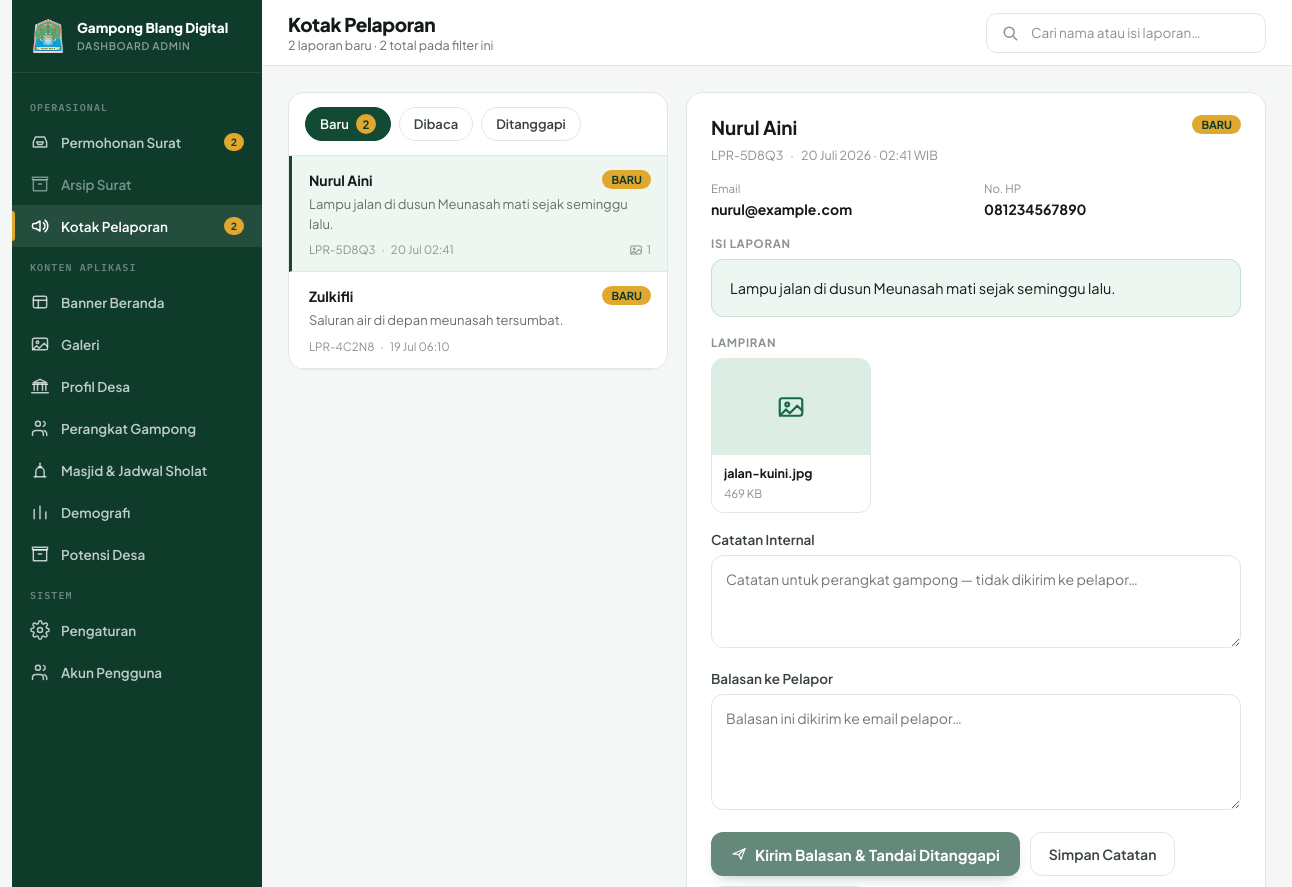
Test: feedback inbox › labels the action as a follow-up once a report is already answered
Click the tab "Dibaca". click: (436, 124)
box: left=399, top=107, right=473, bottom=141
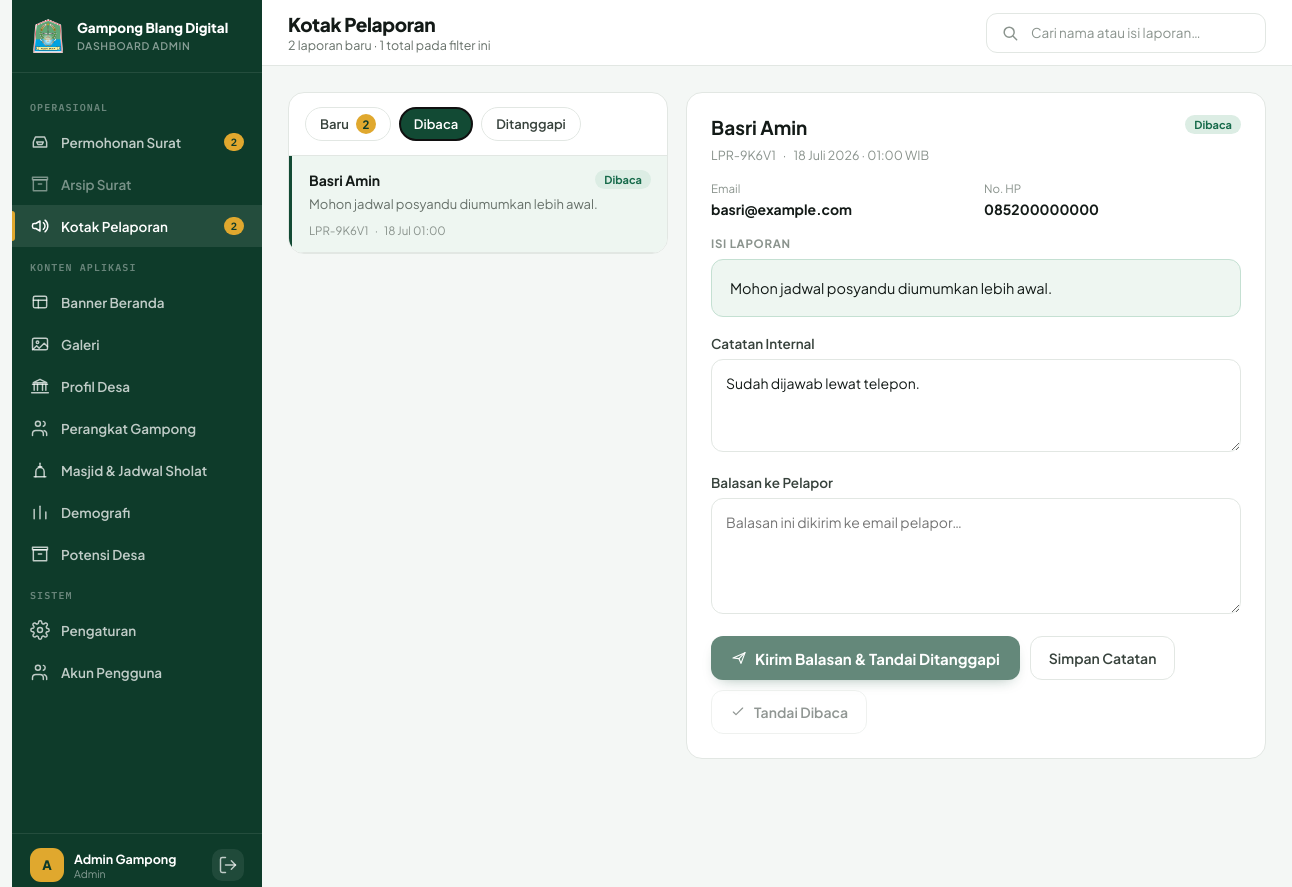
Click the button with aria-label "buka laporan dari basri amin". click: (478, 204)
box: left=289, top=156, right=667, bottom=252
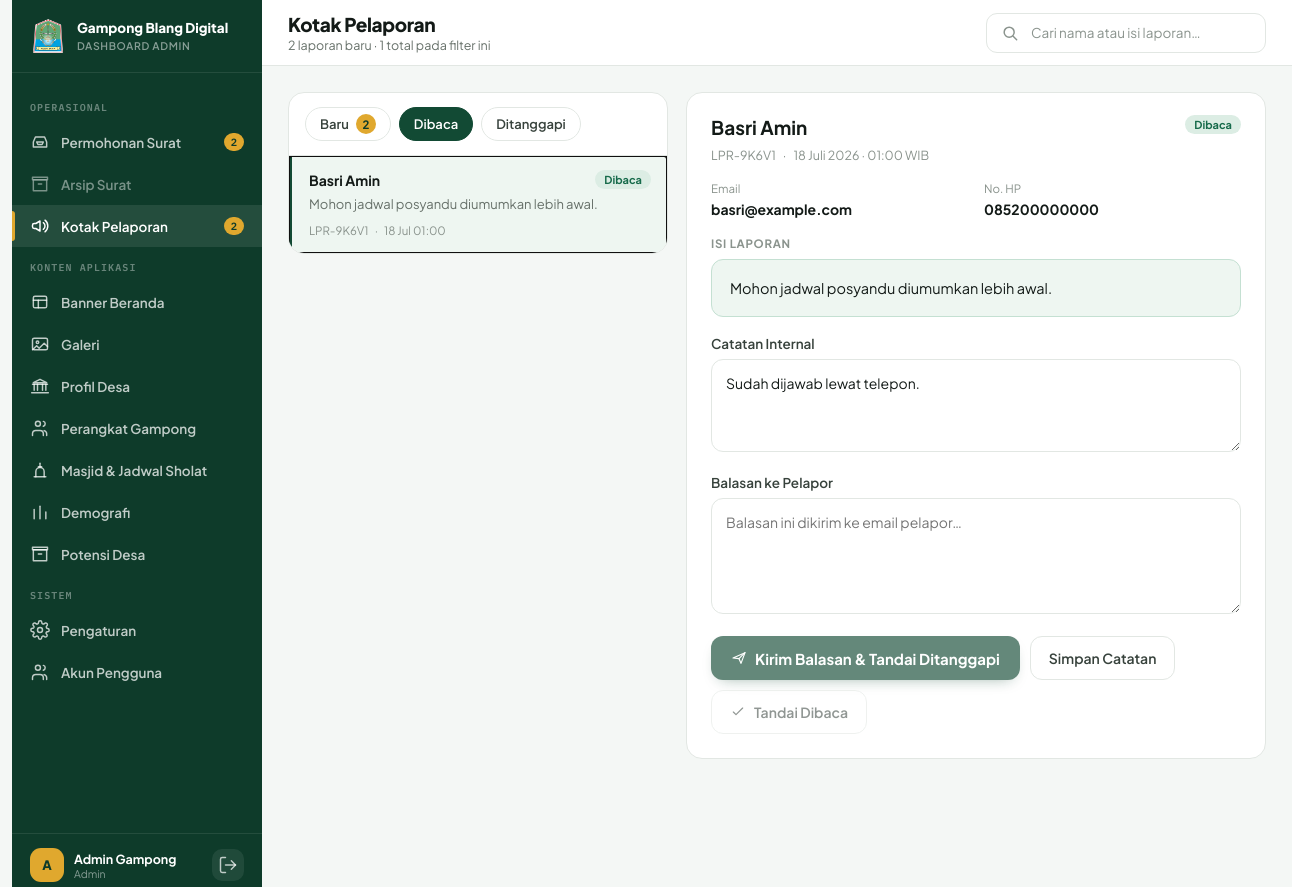
Type "Sudah kami tindak lanjuti." into the text box labelled "Balasan ke Pelapor". click: (976, 556)
box: left=711, top=498, right=1241, bottom=614
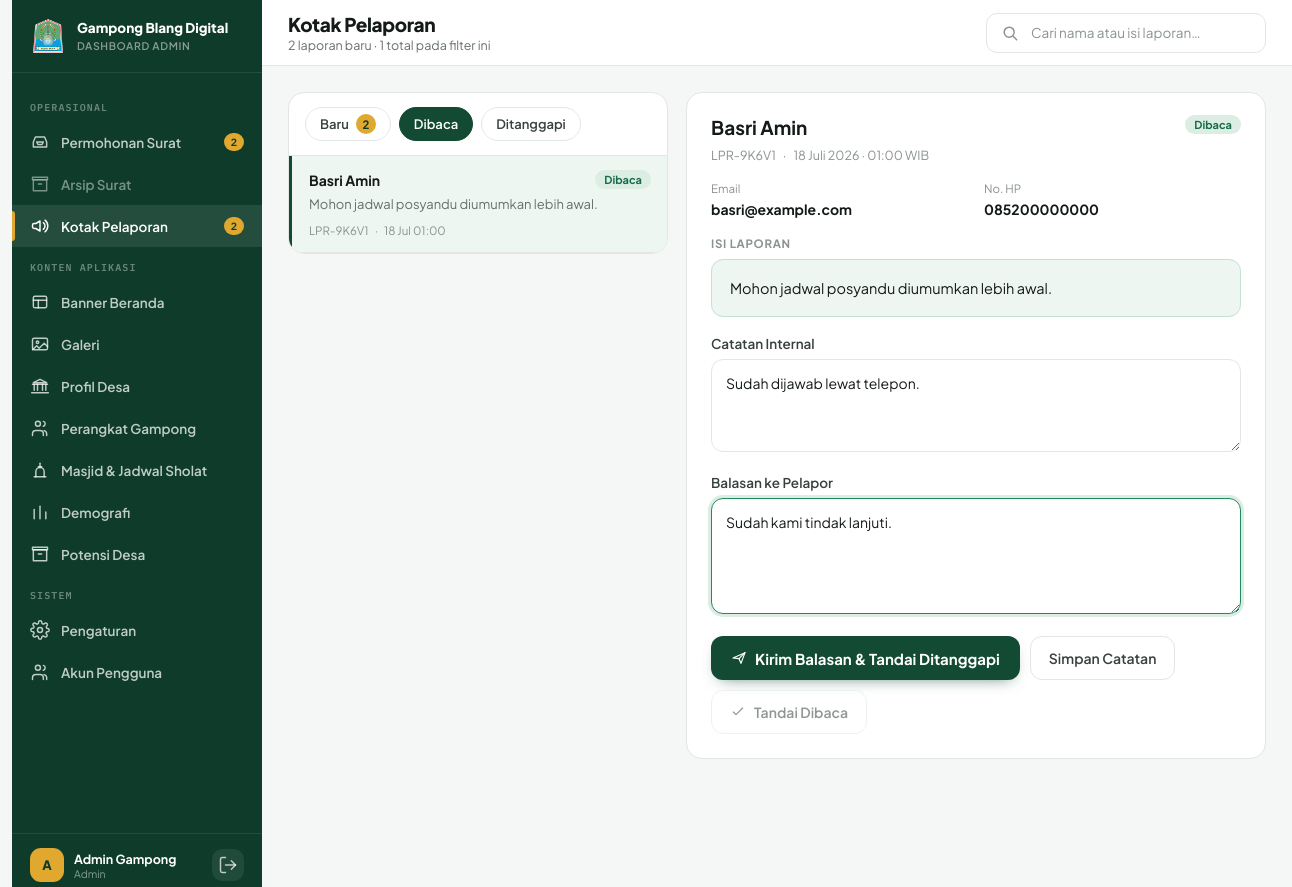
Click the button "Kirim Balasan & Tandai Ditanggapi". click: (865, 658)
box: left=711, top=636, right=1020, bottom=680
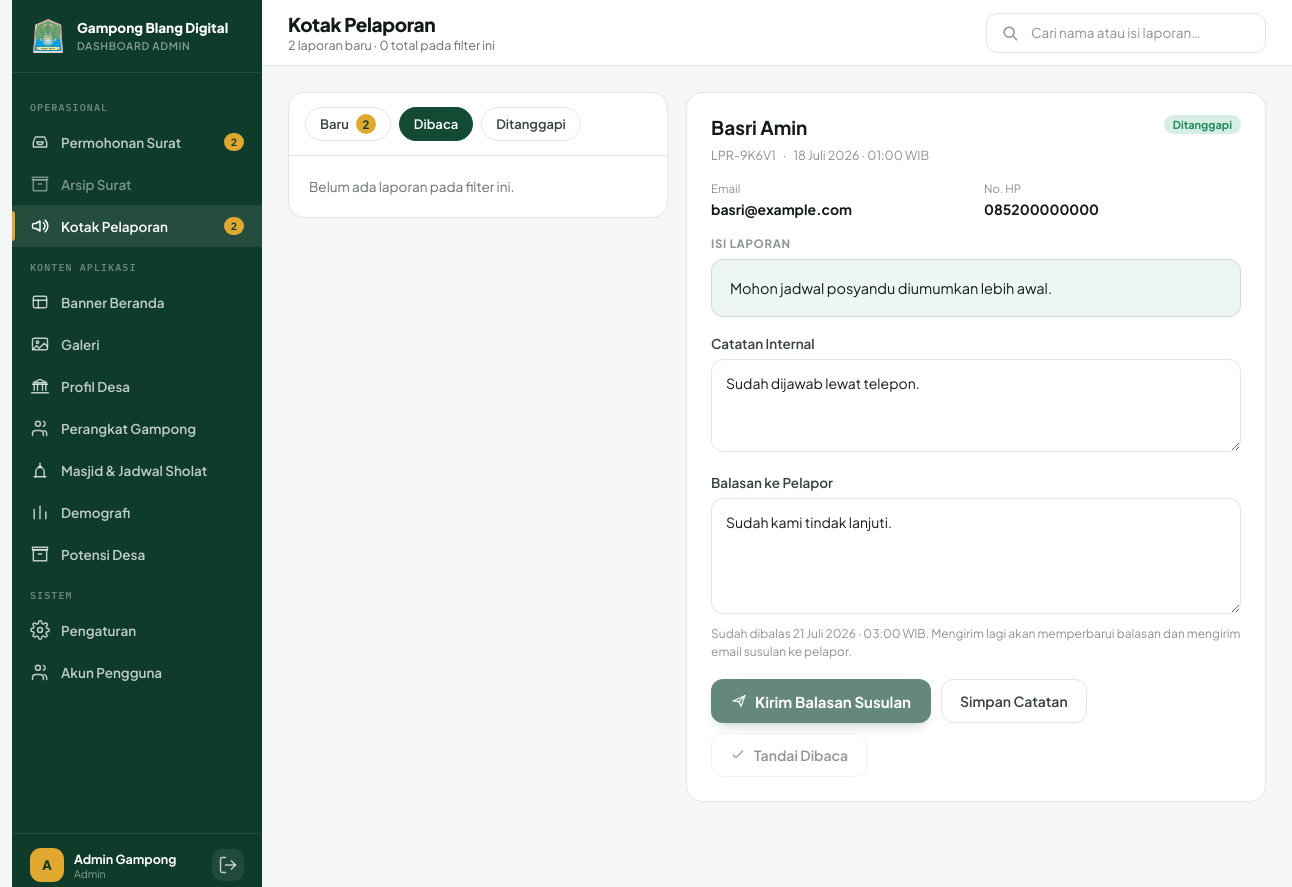
Check: the button "Kirim Balasan Susulan" is shown, box left=711, top=679, right=931, bottom=723
Check: the text "Sudah dibalas" is shown, box left=711, top=626, right=793, bottom=641
